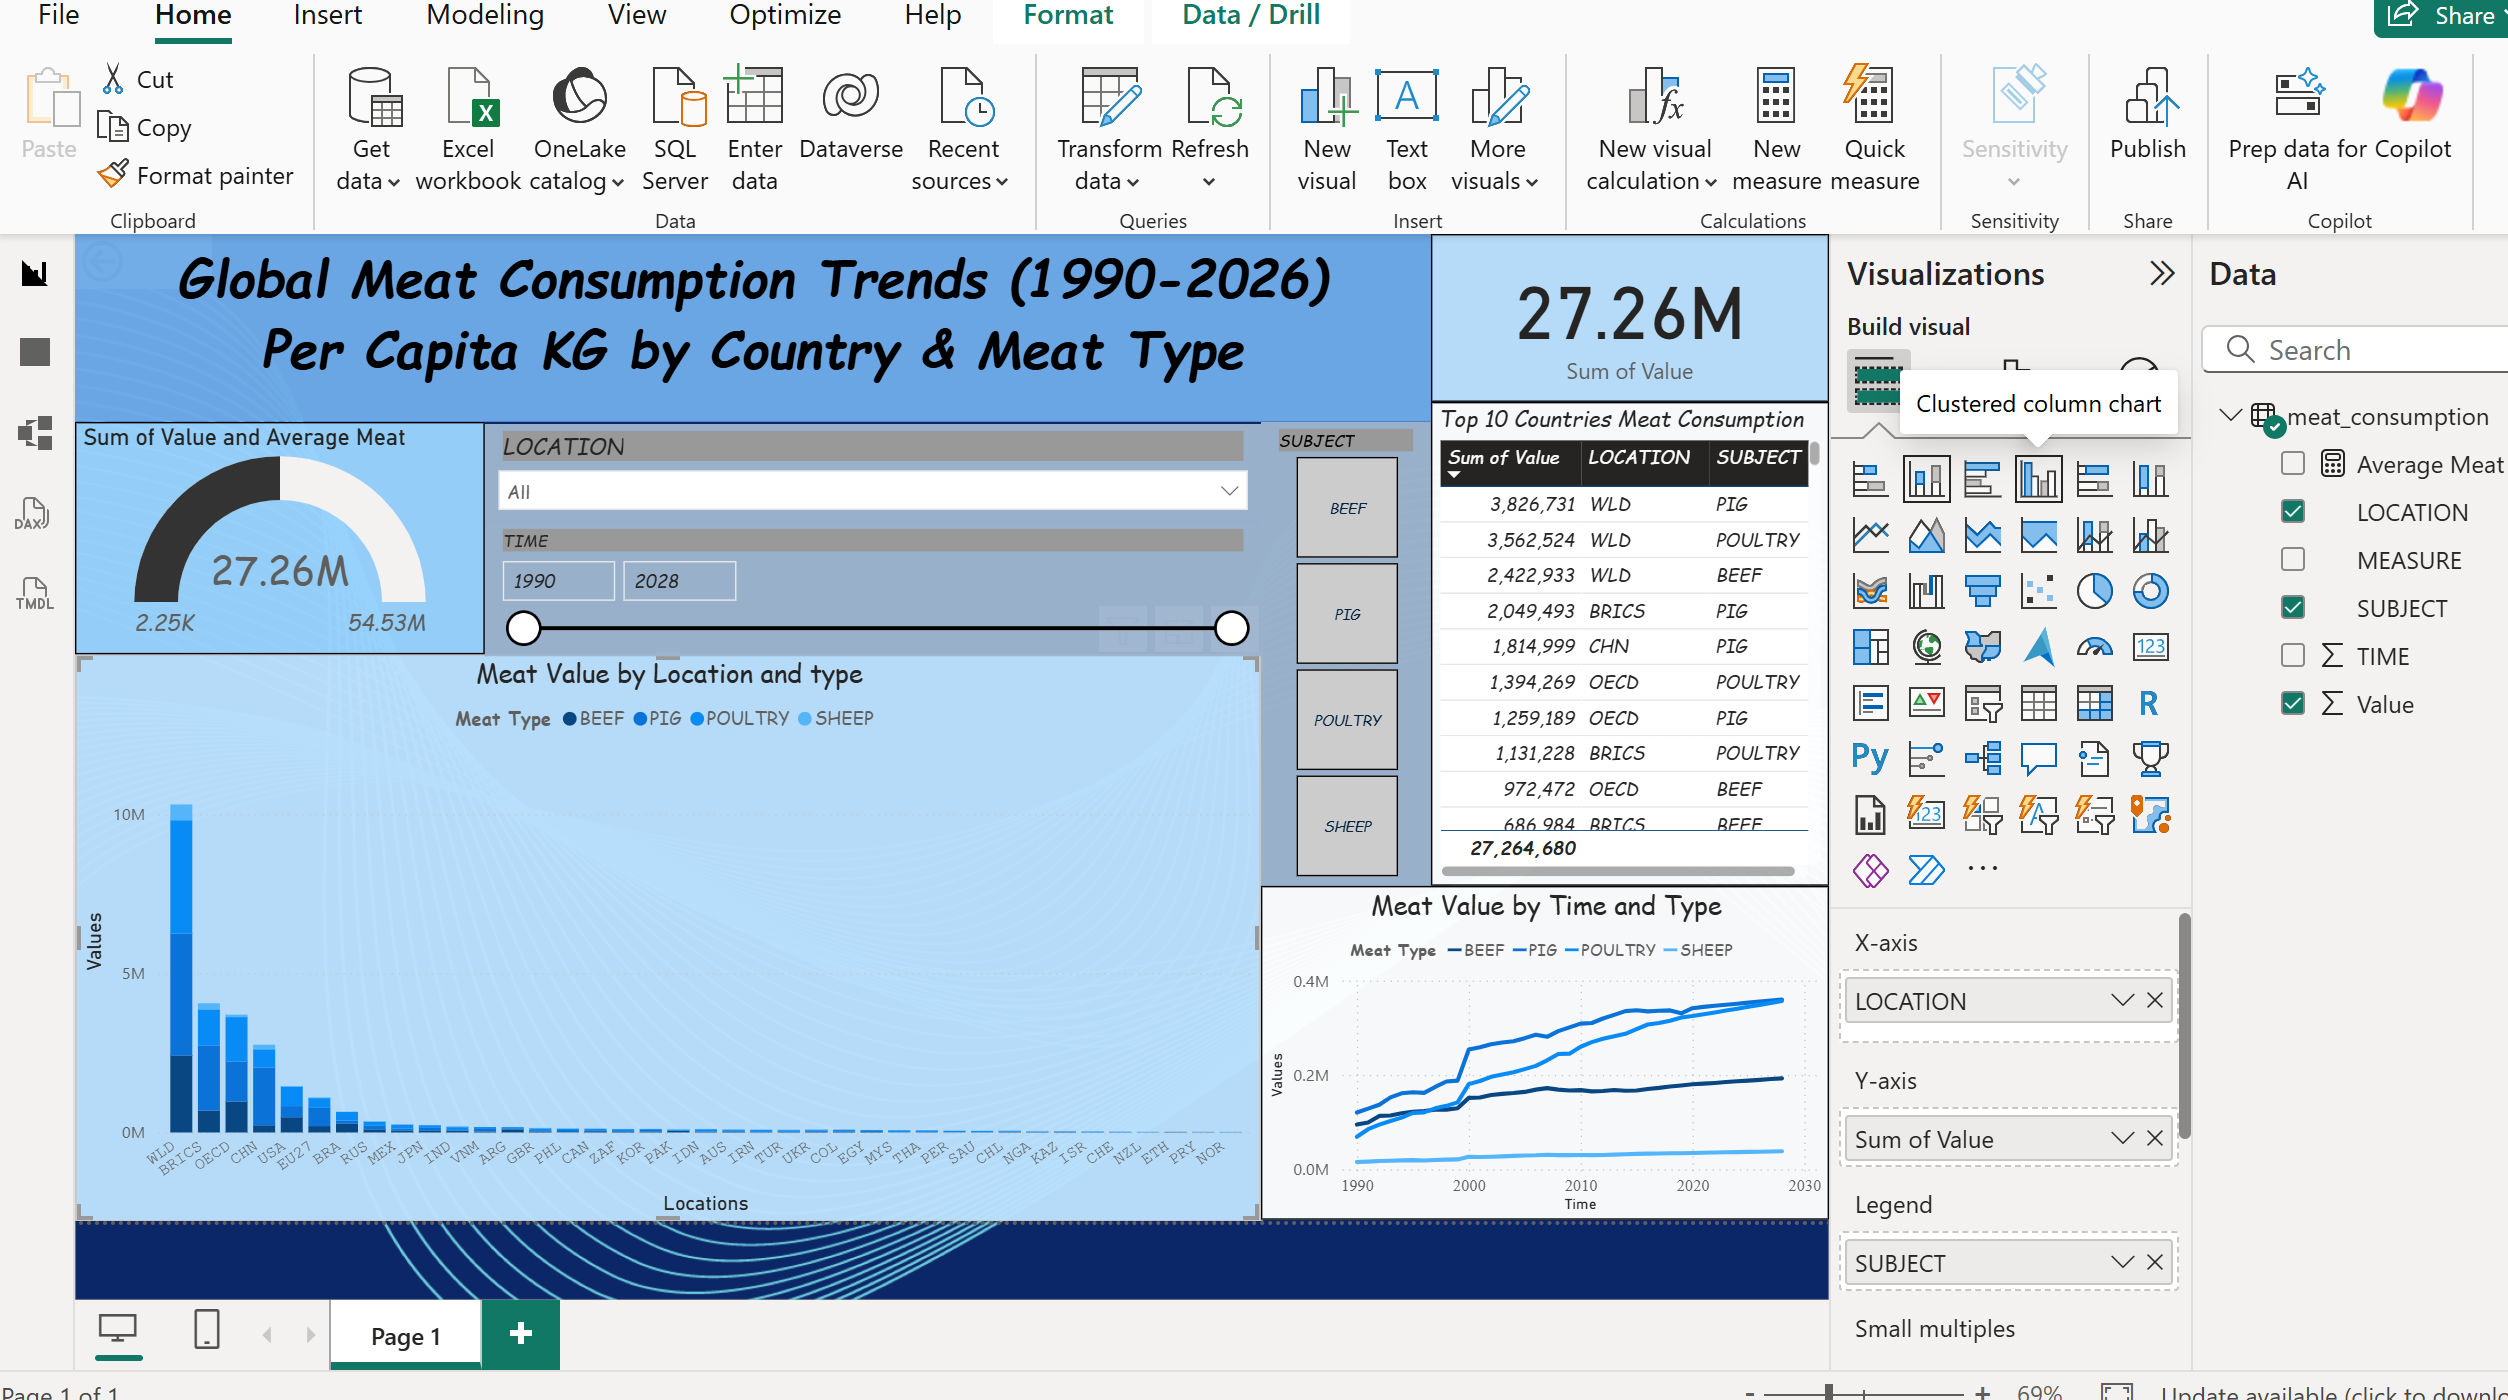

What the dashboard file says about the page in this screenshot:
{"tool":"powerbi","page":{"name":"Page 1","canvas":[1280,720],"ordinal":0},"visuals":[{"type":"columnChart","title":"Meat Value by Location and type","fields":{"Category":["meat_consumption.LOCATION"],"Y":["Sum(meat_consumption.Value)"],"Series":["meat_consumption.SUBJECT"]},"box":[0,306.5,865.5,414.5],"z":0},{"type":"lineChart","title":"Meat Value by Time and Type","fields":{"Category":["meat_consumption.TIME"],"Series":["meat_consumption.SUBJECT"],"Y":["Sum(meat_consumption.Value)"]},"box":[865.5,475.8,414.5,243.7],"z":1},{"type":"slicer","fields":{"Values":["meat_consumption.LOCATION"]},"box":[299.2,138.7,566.3,71.5],"z":2},{"type":"slicer","fields":{"Values":["meat_consumption.TIME"]},"box":[299.2,210.2,566.3,97.8],"z":3},{"type":"card","fields":{"Values":["Sum(meat_consumption.Value)"]},"box":[989.6,0,290.4,122.6],"z":5},{"type":"tableEx","title":"Top 10 Countries Meat Consumption ","fields":{"Values":["Sum(meat_consumption.Value)","meat_consumption.LOCATION","meat_consumption.SUBJECT"]},"box":[989.6,122.6,290.4,353.2],"z":6},{"type":"actionButton","box":[0,0,100,40],"z":7},{"type":"textbox","box":[0,0,989.6,137.2],"z":8},{"type":"slicer","fields":{"Values":["meat_consumption.SUBJECT"]},"box":[865.5,137.2,124.1,338.6],"z":9},{"type":"gauge","fields":{"Y":["Sum(meat_consumption.Value)"],"MinValue":["meat_consumption.Average Meat"]},"box":[0,137.2,299.2,169.3],"z":10}]}

Visuals, with their boxes on the page's 1280x720 design canvas (x1, y1, x2, y2). These are canvas units, not pixel positions in the 2508x1400 screenshot, which may show the page scaled, cropped or inside an application window:
"Meat Value by Location and type" columnChart: (0,306,866,721)
"Meat Value by Time and Type" lineChart: (866,476,1280,720)
slicer - meat_consumption.LOCATION: (299,139,866,210)
slicer - meat_consumption.TIME: (299,210,866,308)
card - Sum(meat_consumption.Value): (990,0,1280,123)
"Top 10 Countries Meat Consumption " tableEx: (990,123,1280,476)
actionButton: (0,0,100,40)
textbox: (0,0,990,137)
slicer - meat_consumption.SUBJECT: (866,137,990,476)
gauge - Sum(meat_consumption.Value) x meat_consumption.Average Meat: (0,137,299,306)
